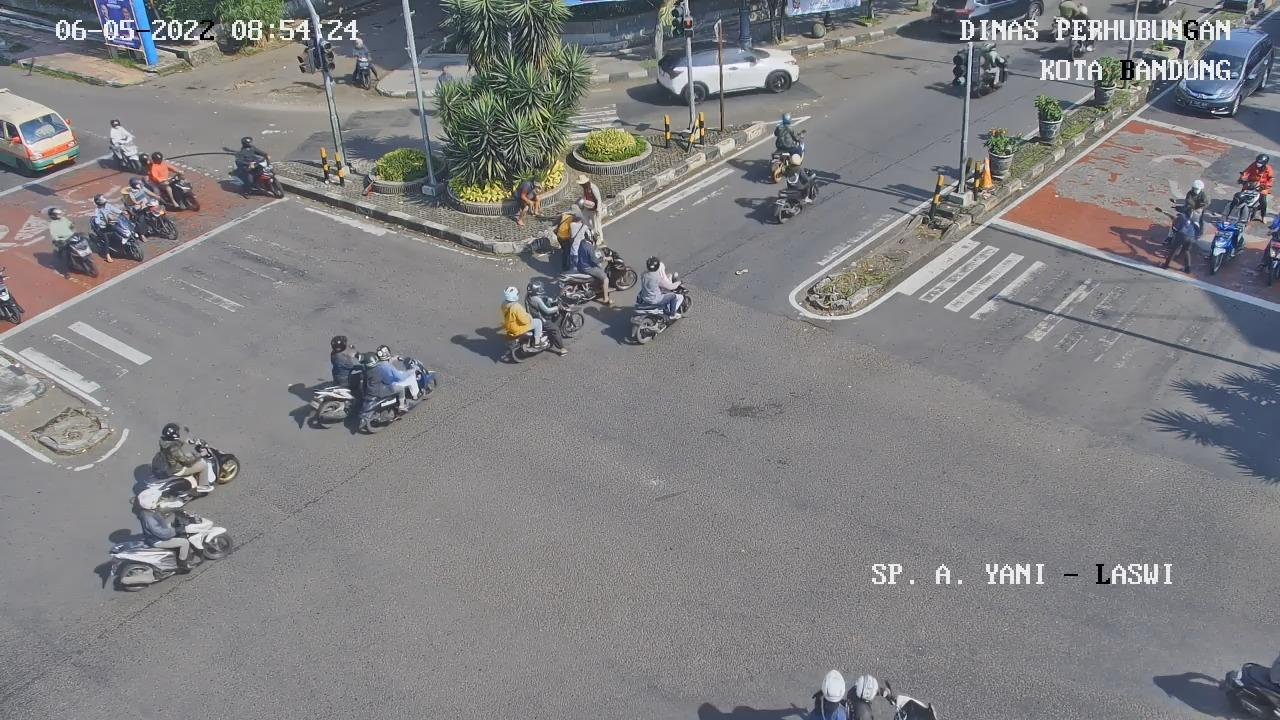accident: (503, 173, 549, 232)
